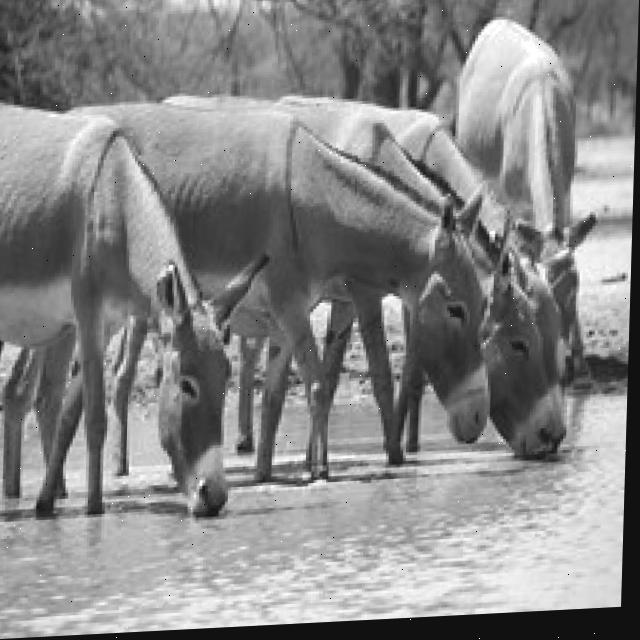Donkey: (48, 83, 500, 497), (227, 67, 587, 473), (0, 83, 274, 523), (252, 72, 578, 429), (445, 9, 602, 393)
